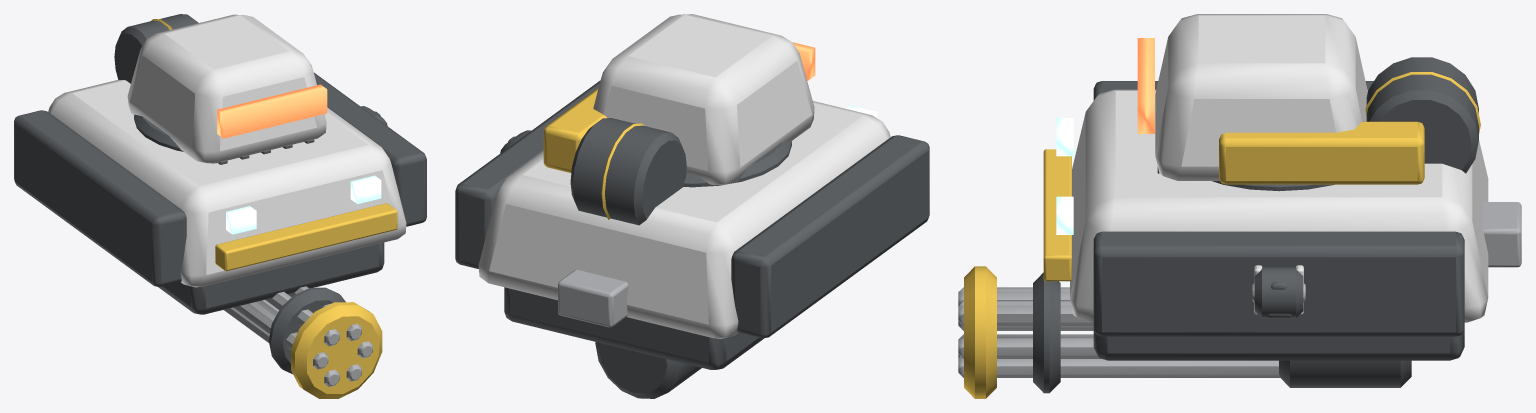
Rendered from auto.glb.
The picture shows the model from 3 angles, left to right: view 1: azimuth 30°, elevation 25°; view 2: azimuth 150°, elevation 25°; view 3: azimuth 270°, elevation 25°; orthographic projection. The views are drawn at different scales.
Parts seen in each view (by area): view 1: Hull, Turret, Barrel; view 2: Hull, Turret, Barrel; view 3: Hull, Turret, Barrel, LegUpper.
Part boxes in pixels (box(x1,y1,x2,y2)): Hull: box(14, 14, 426, 314); Turret: box(127, 14, 327, 163); Barrel: box(224, 286, 382, 398); Hull: box(455, 80, 929, 369); Turret: box(543, 14, 815, 187); Barrel: box(595, 342, 701, 398); Hull: box(1043, 57, 1521, 360); Turret: box(1137, 14, 1424, 191); Barrel: box(958, 266, 1411, 398); LegUpper: box(1252, 265, 1305, 318).
Size of the model in its own units: 0.6207 by 0.5465 by 0.7895.
